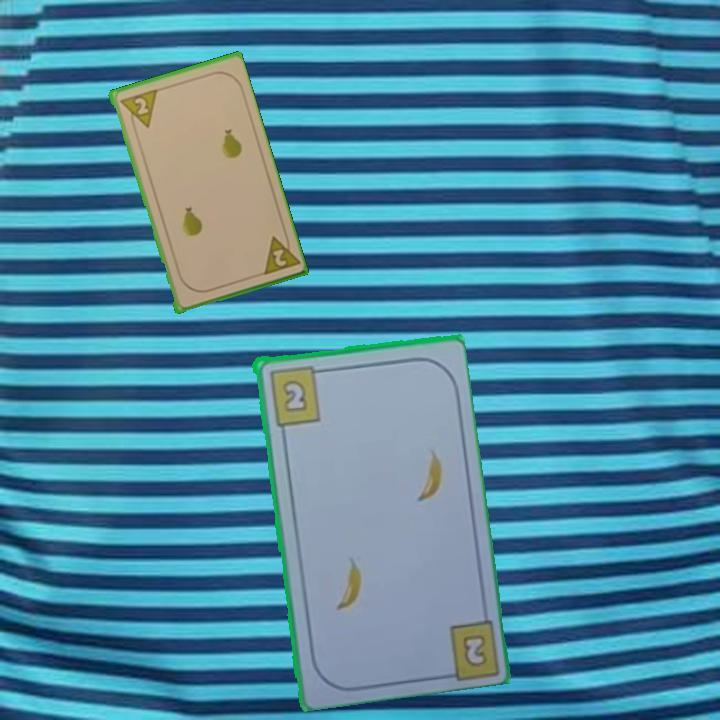2b: (265, 361, 327, 428), (461, 634, 486, 667)
2p: (257, 229, 301, 278), (115, 86, 159, 134)
